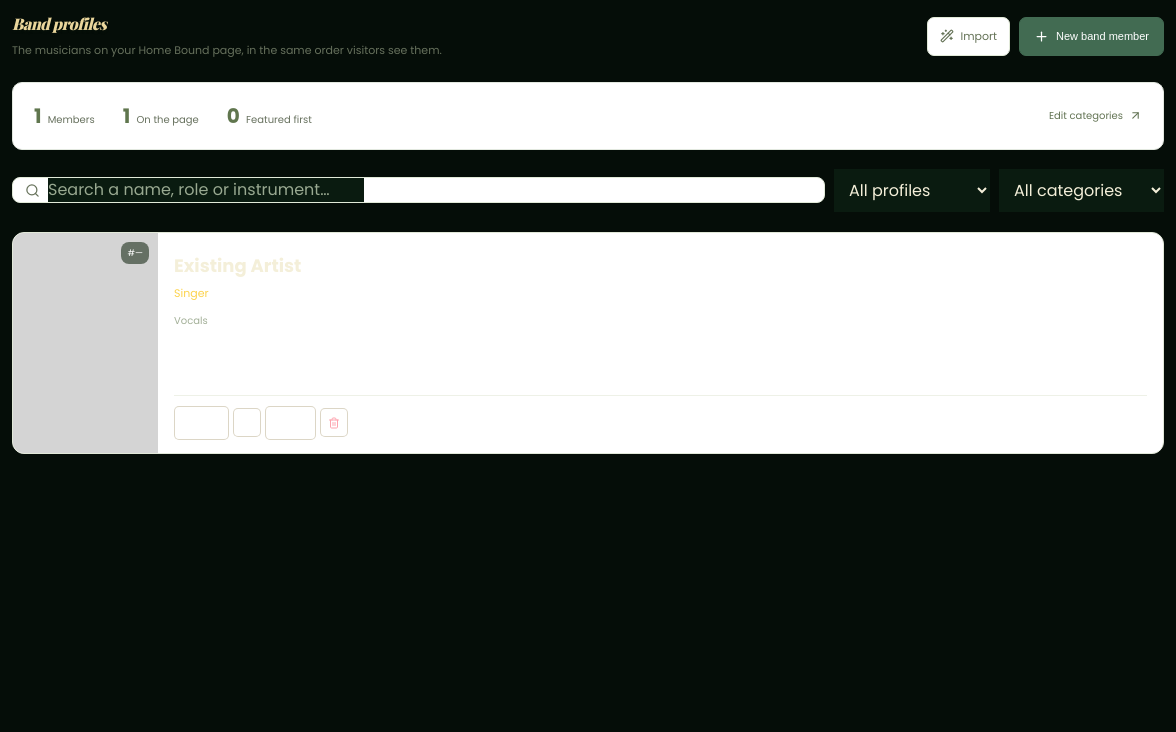
it: uses approval requests for hide/delete and treats rejected approval submissions as failures
Click the button "Hide".
click(202, 423)  # box 174,406 -> 229,440
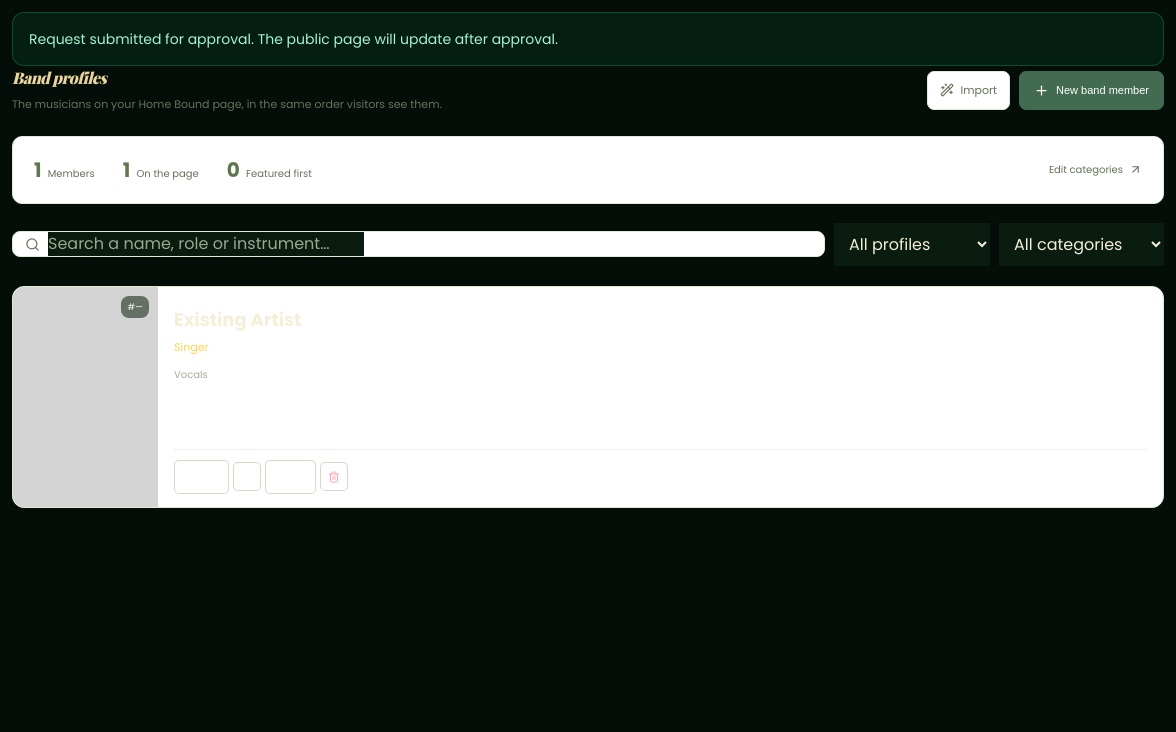
Click the button named "Delete Existing Artist".
click(334, 477)  # box 320,462 -> 348,491
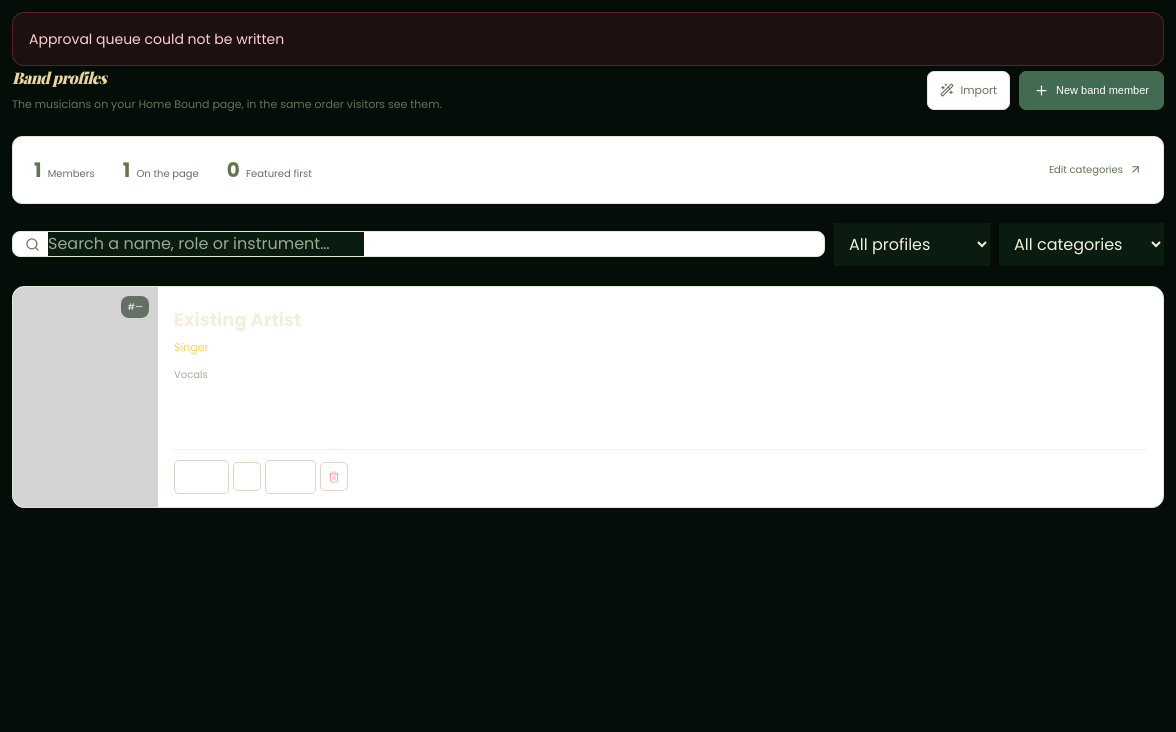
expect the text "Existing Artist" is shown: met, box 174,307 -> 301,332
expect the message "Approval queue could not be written" is shown: met, box 12,12 -> 1164,66
